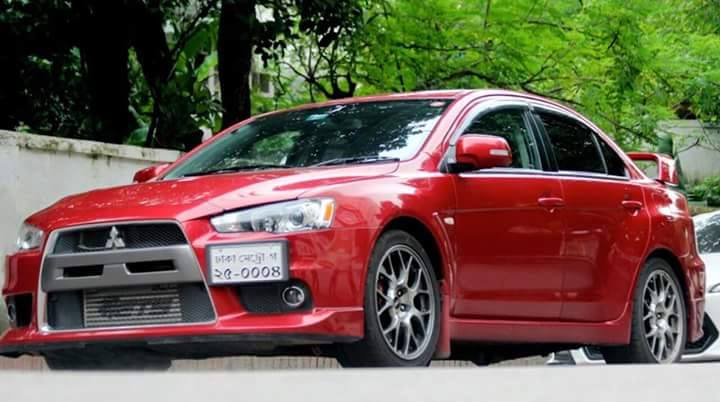registration_plate: (208, 242, 283, 282)
